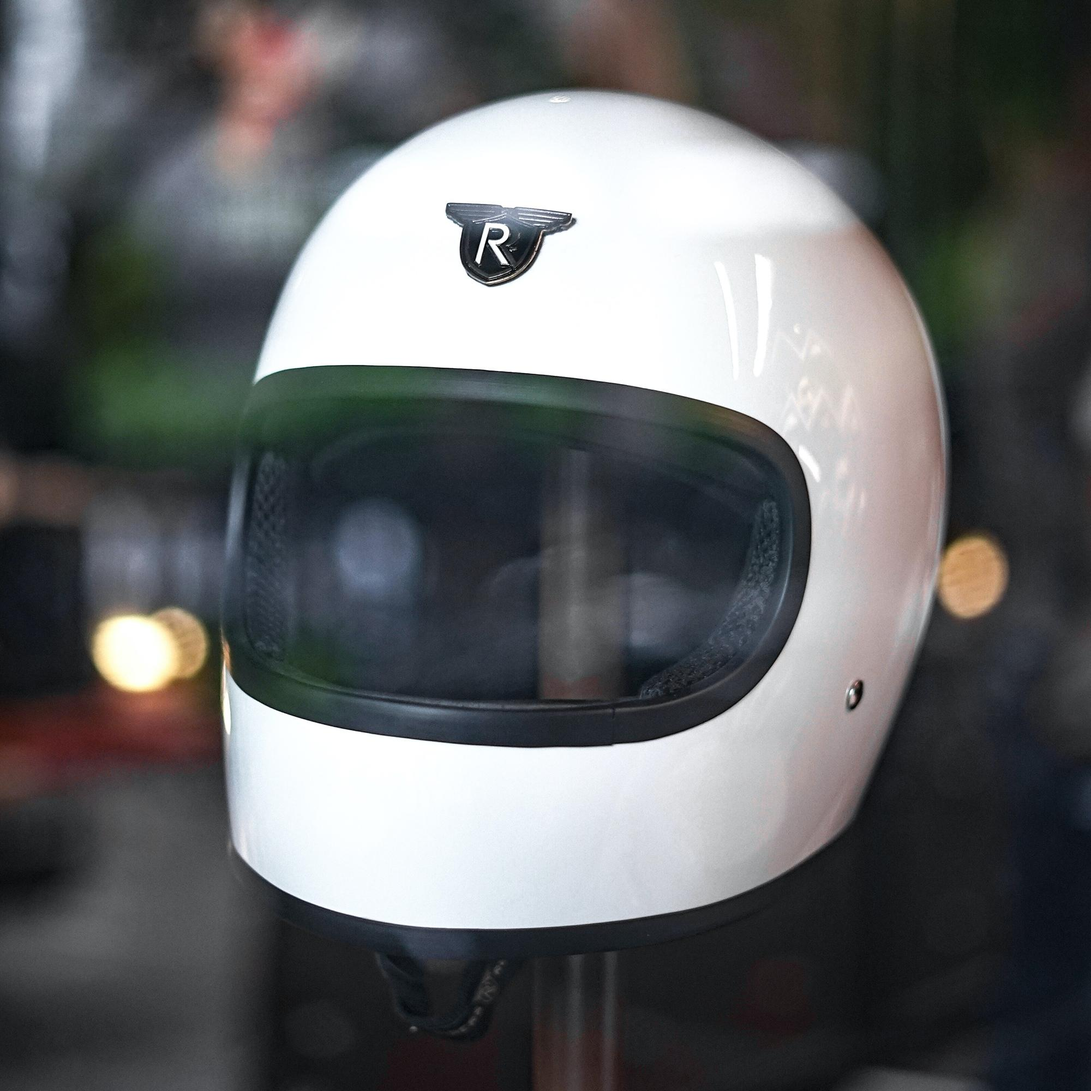helmet: (214, 84, 955, 965)
